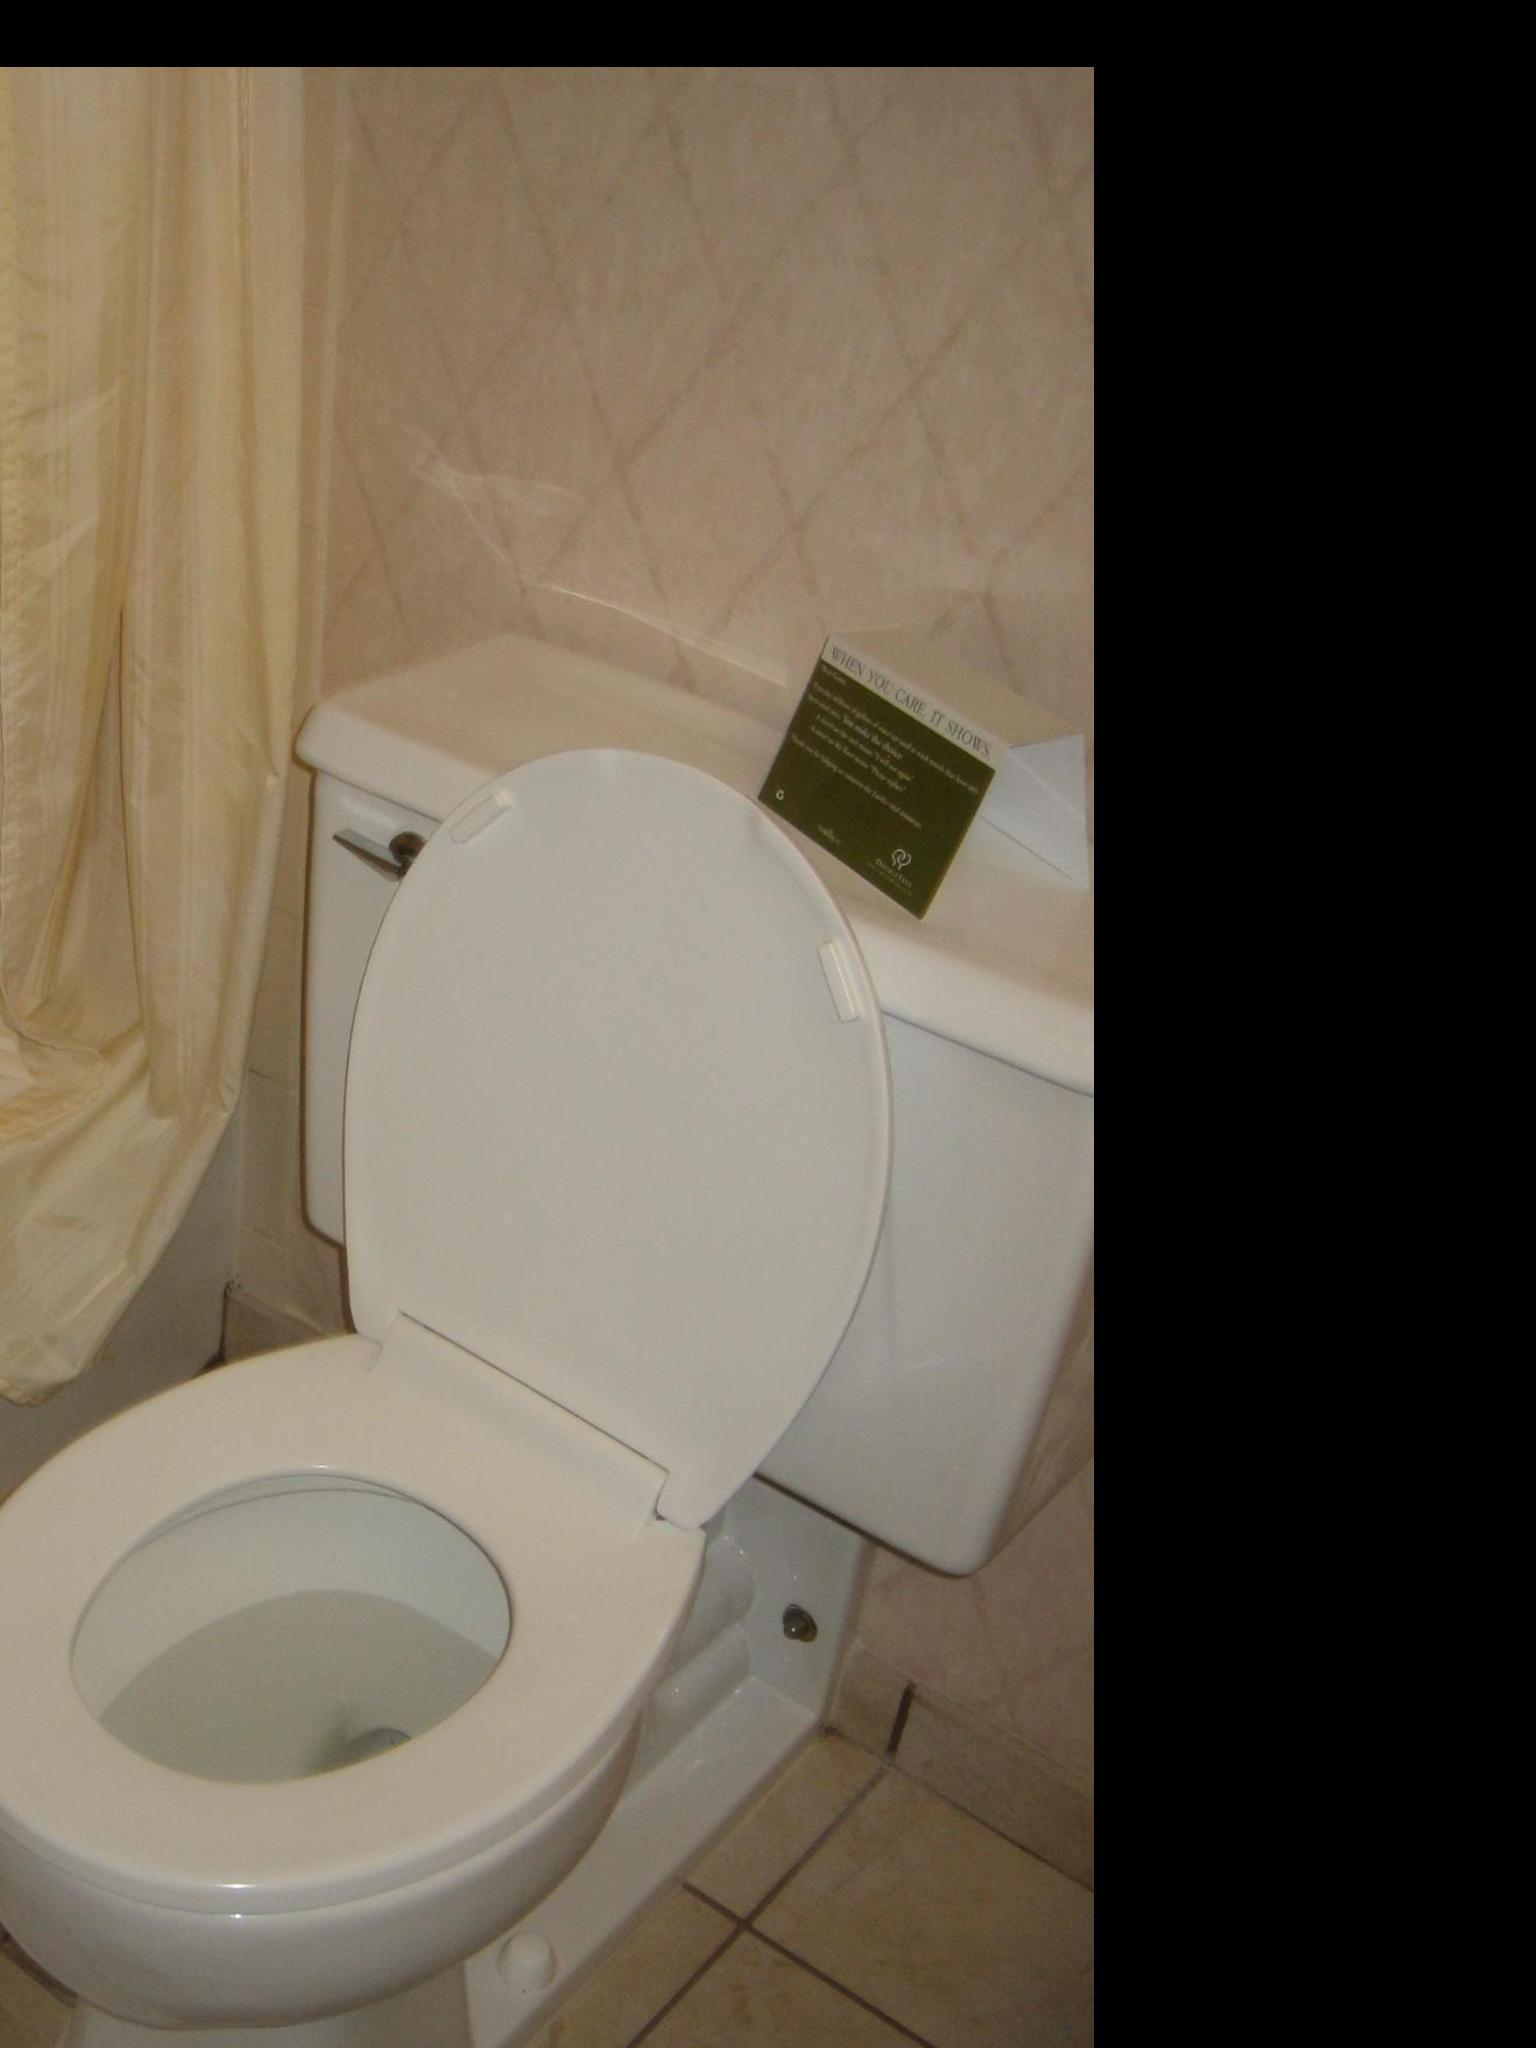Sanitario: (0, 548, 1192, 2048)
